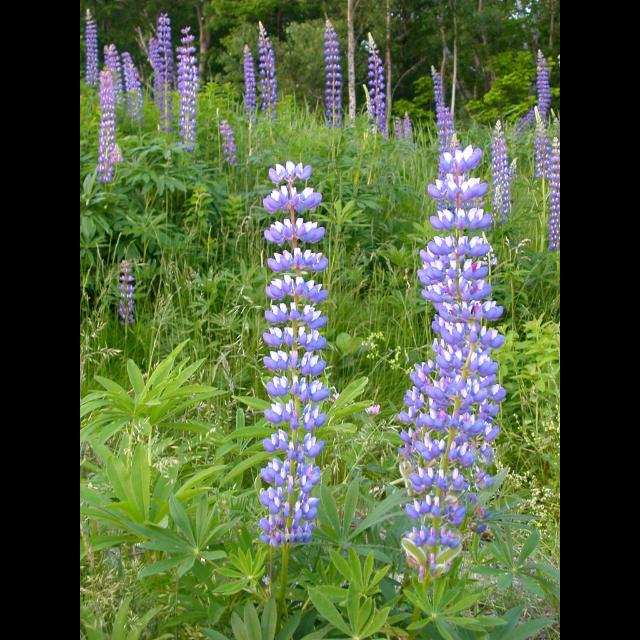Flower: (394, 144, 508, 554), (259, 161, 327, 547), (148, 16, 172, 124), (176, 27, 198, 142), (488, 122, 510, 218), (366, 29, 386, 129), (324, 17, 340, 123), (258, 22, 278, 106), (432, 61, 452, 143), (547, 136, 559, 248), (101, 46, 123, 92), (98, 70, 106, 176), (120, 50, 138, 96), (536, 50, 550, 108), (242, 46, 255, 106), (116, 264, 132, 310), (535, 106, 543, 172)
